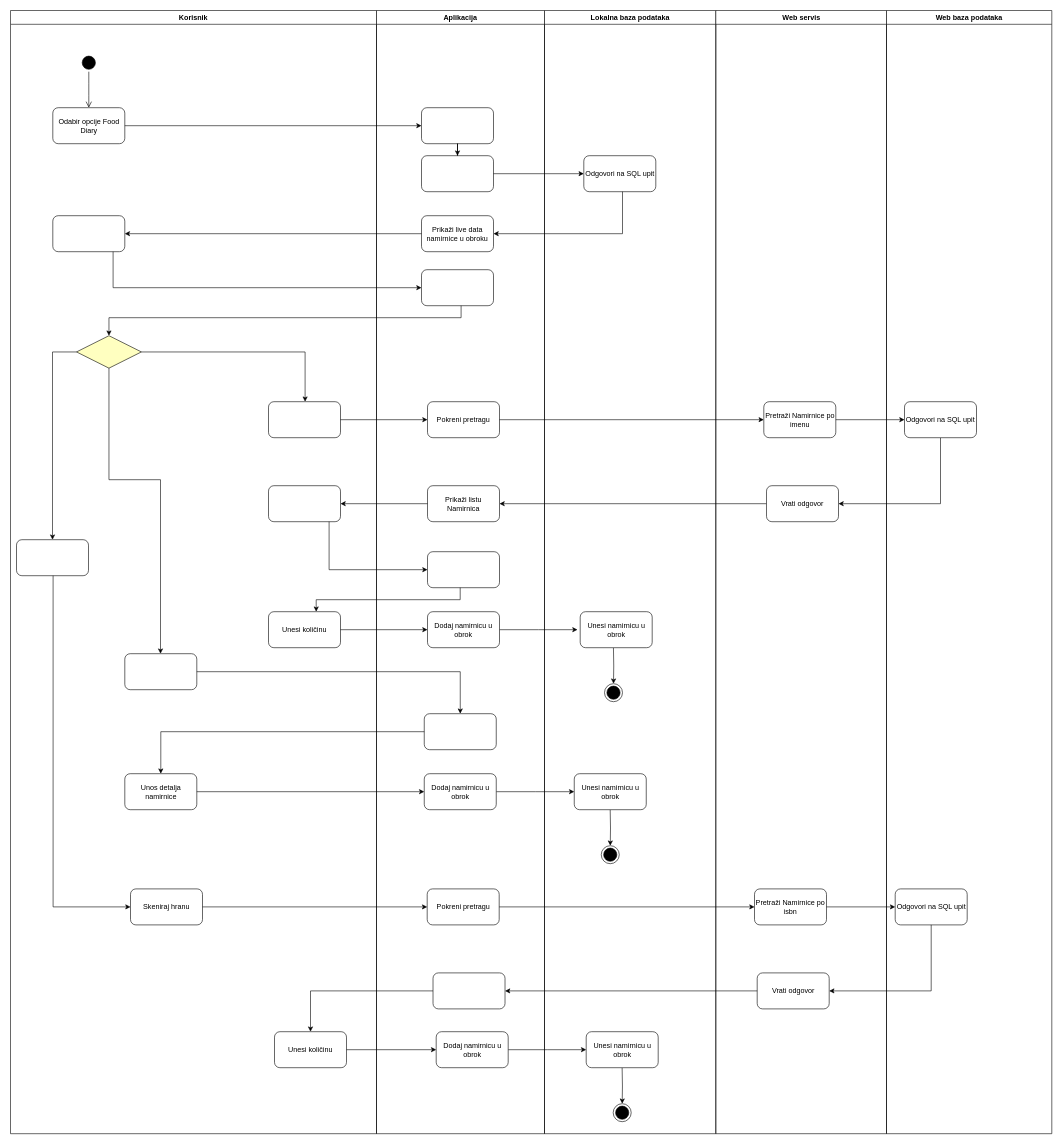
This 1063x1144 diagram has some shape labels left out. The centre of each missing label's shape, as x and y in pixels:
"Dohvaćanje namirnica u obroku" goes at (x=457, y=173).
"Odaberi namirnicu za unos" goes at (x=304, y=503).
"Odabir unosa" goes at (x=108, y=351).
"Pokreni aktivnost add new food" goes at (x=460, y=731).
"Pokretanje aktivnosti add food to meal" goes at (x=457, y=287).
"Pokretanje aktivnosti FoodDiary" goes at (x=457, y=125).
"Prikaži ekran za dodavanje hrane" goes at (x=463, y=569).
"Prikaži namirnicu" goes at (x=468, y=990).
"Unos nove hrane" goes at (x=160, y=671).
"Unos nove hrane u obrok" goes at (x=88, y=233).
"Unos pretragom" goes at (x=304, y=419).
"Unos skeniranjem barkoda" goes at (x=52, y=557).
